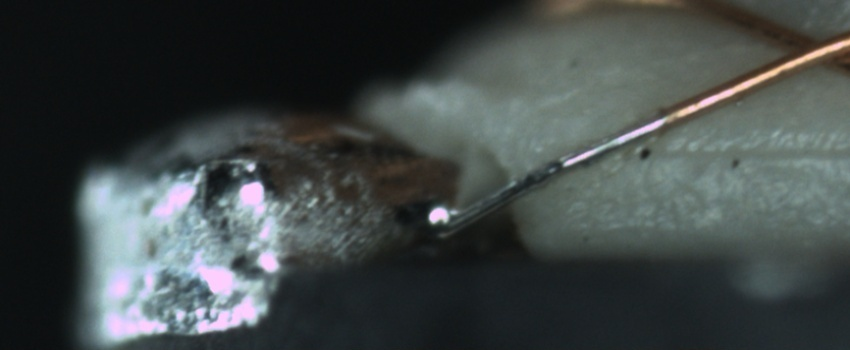CL: (758, 16, 847, 79)
DL: (632, 123, 850, 182)
TS: (425, 106, 652, 231)
TTCW: (430, 86, 691, 233)
